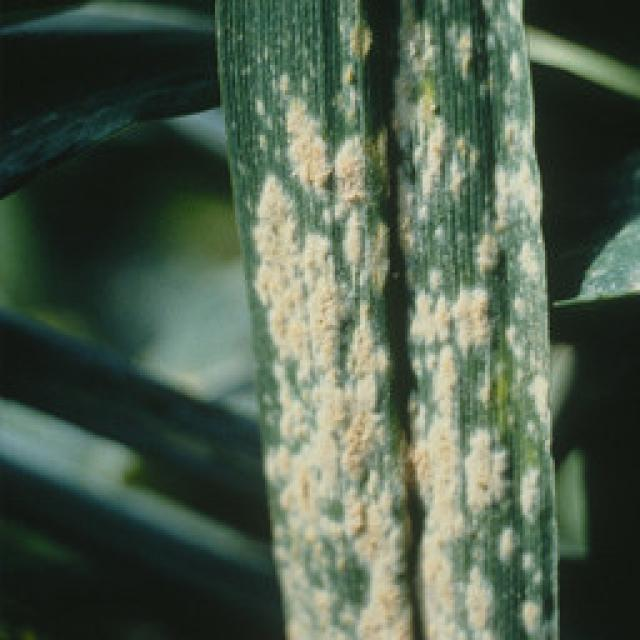wheat-powdery-mildew: (212, 0, 562, 640)
